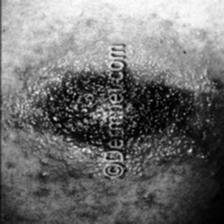Toxin: (129, 74, 186, 138), (49, 84, 104, 140)
